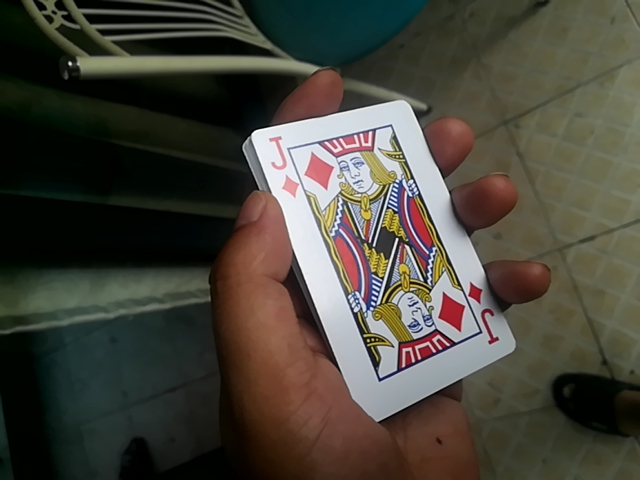fk j: (254, 78, 509, 443)
